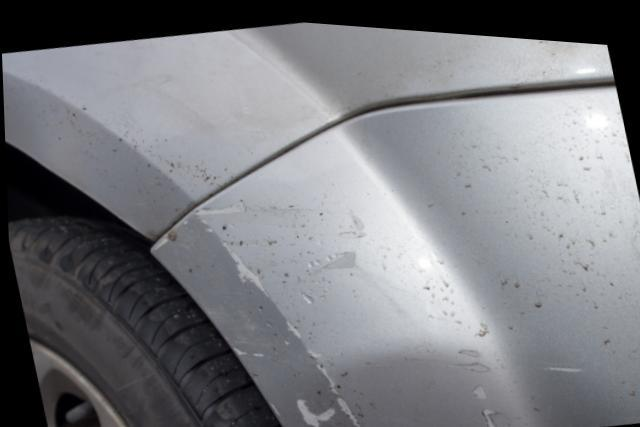scratch: (154, 193, 620, 427)
